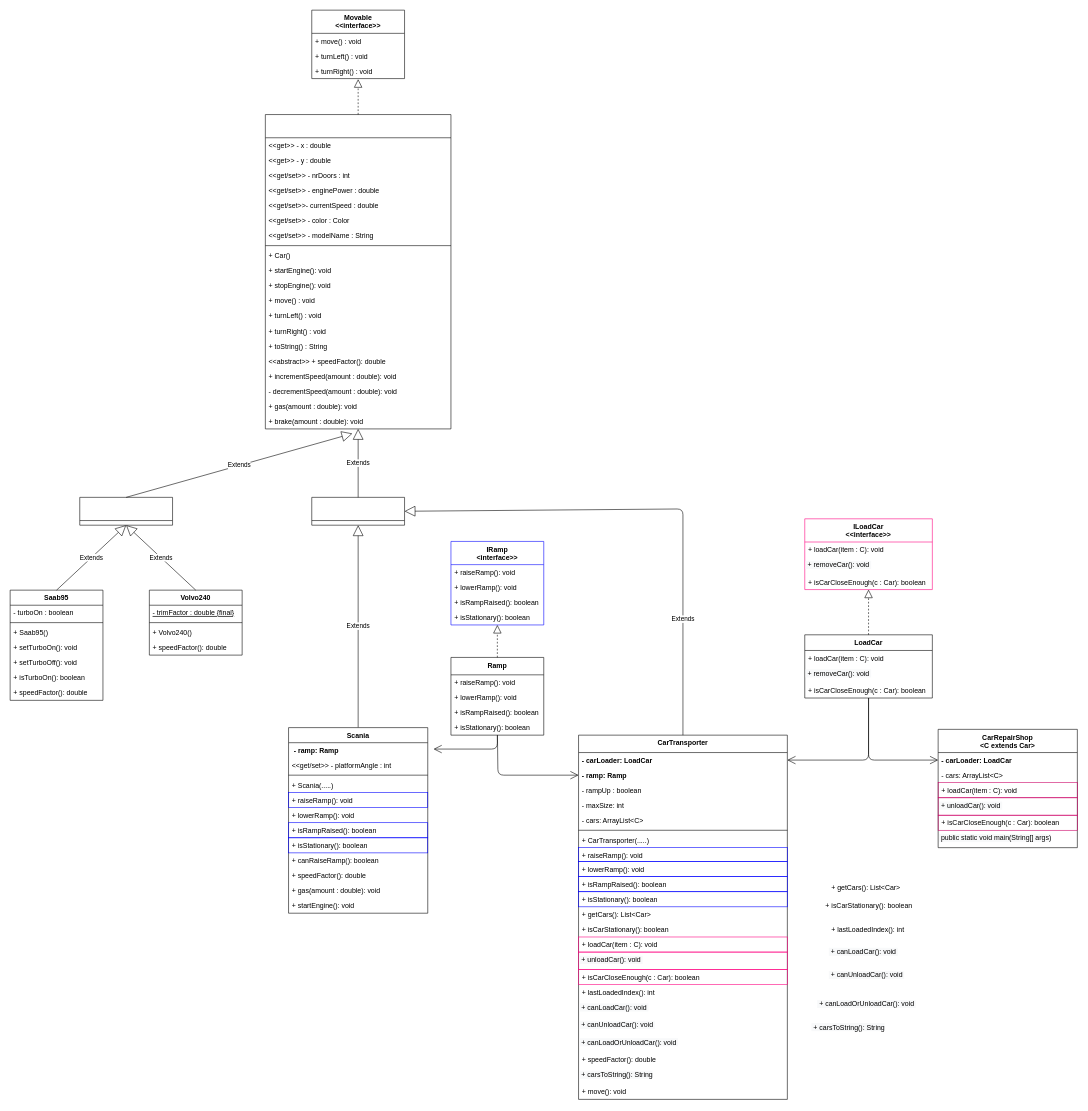
Some shapes in this 1088 by 1111 pixel diagram are drawn without their labels. Each missing label, with the box of its shape:
Car {abstract}: (79, 497, 173, 525)
Truck {abstract}: (311, 497, 405, 525)
Vehicle {abstract}: (265, 114, 451, 429)
